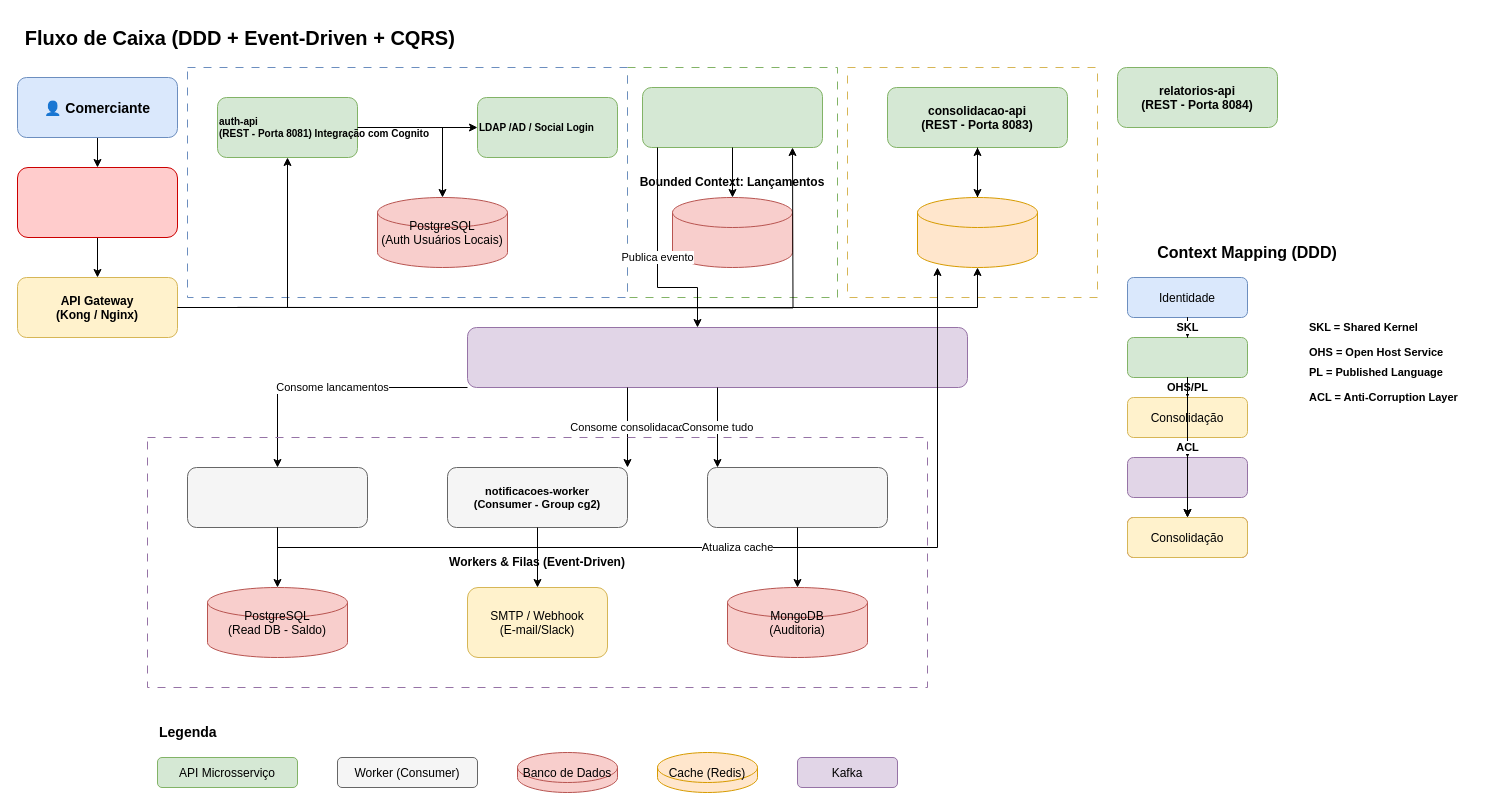
This 1485x810 diagram has some shape labels left out. The box of each missing label's shape, as (x1, y1, x2, y2) in pixels:
Apache Kafka Cluster Topics: lancamentos, consolidacao, notificacoes, auditoria: (466, 326, 968, 388)
auditoria-worker (Consumer - Group cg3): (706, 466, 888, 528)
Bounded Context: Consolidação: (846, 66, 1098, 298)
Bounded Context: Identidade: (186, 66, 628, 298)
consolidacao-worker (Consumer - Group cg1): (186, 466, 368, 528)
Google Cloud Armor WAF: (16, 166, 178, 238)
lancamentos-api (REST - Porta 8082): (642, 86, 822, 148)
Lançamentos: (1126, 336, 1248, 378)
Notificação: (1126, 456, 1248, 498)
PostgreSQL (Command DB): (672, 196, 792, 268)
Redis Cache (Saldo Diário): (916, 196, 1038, 268)
